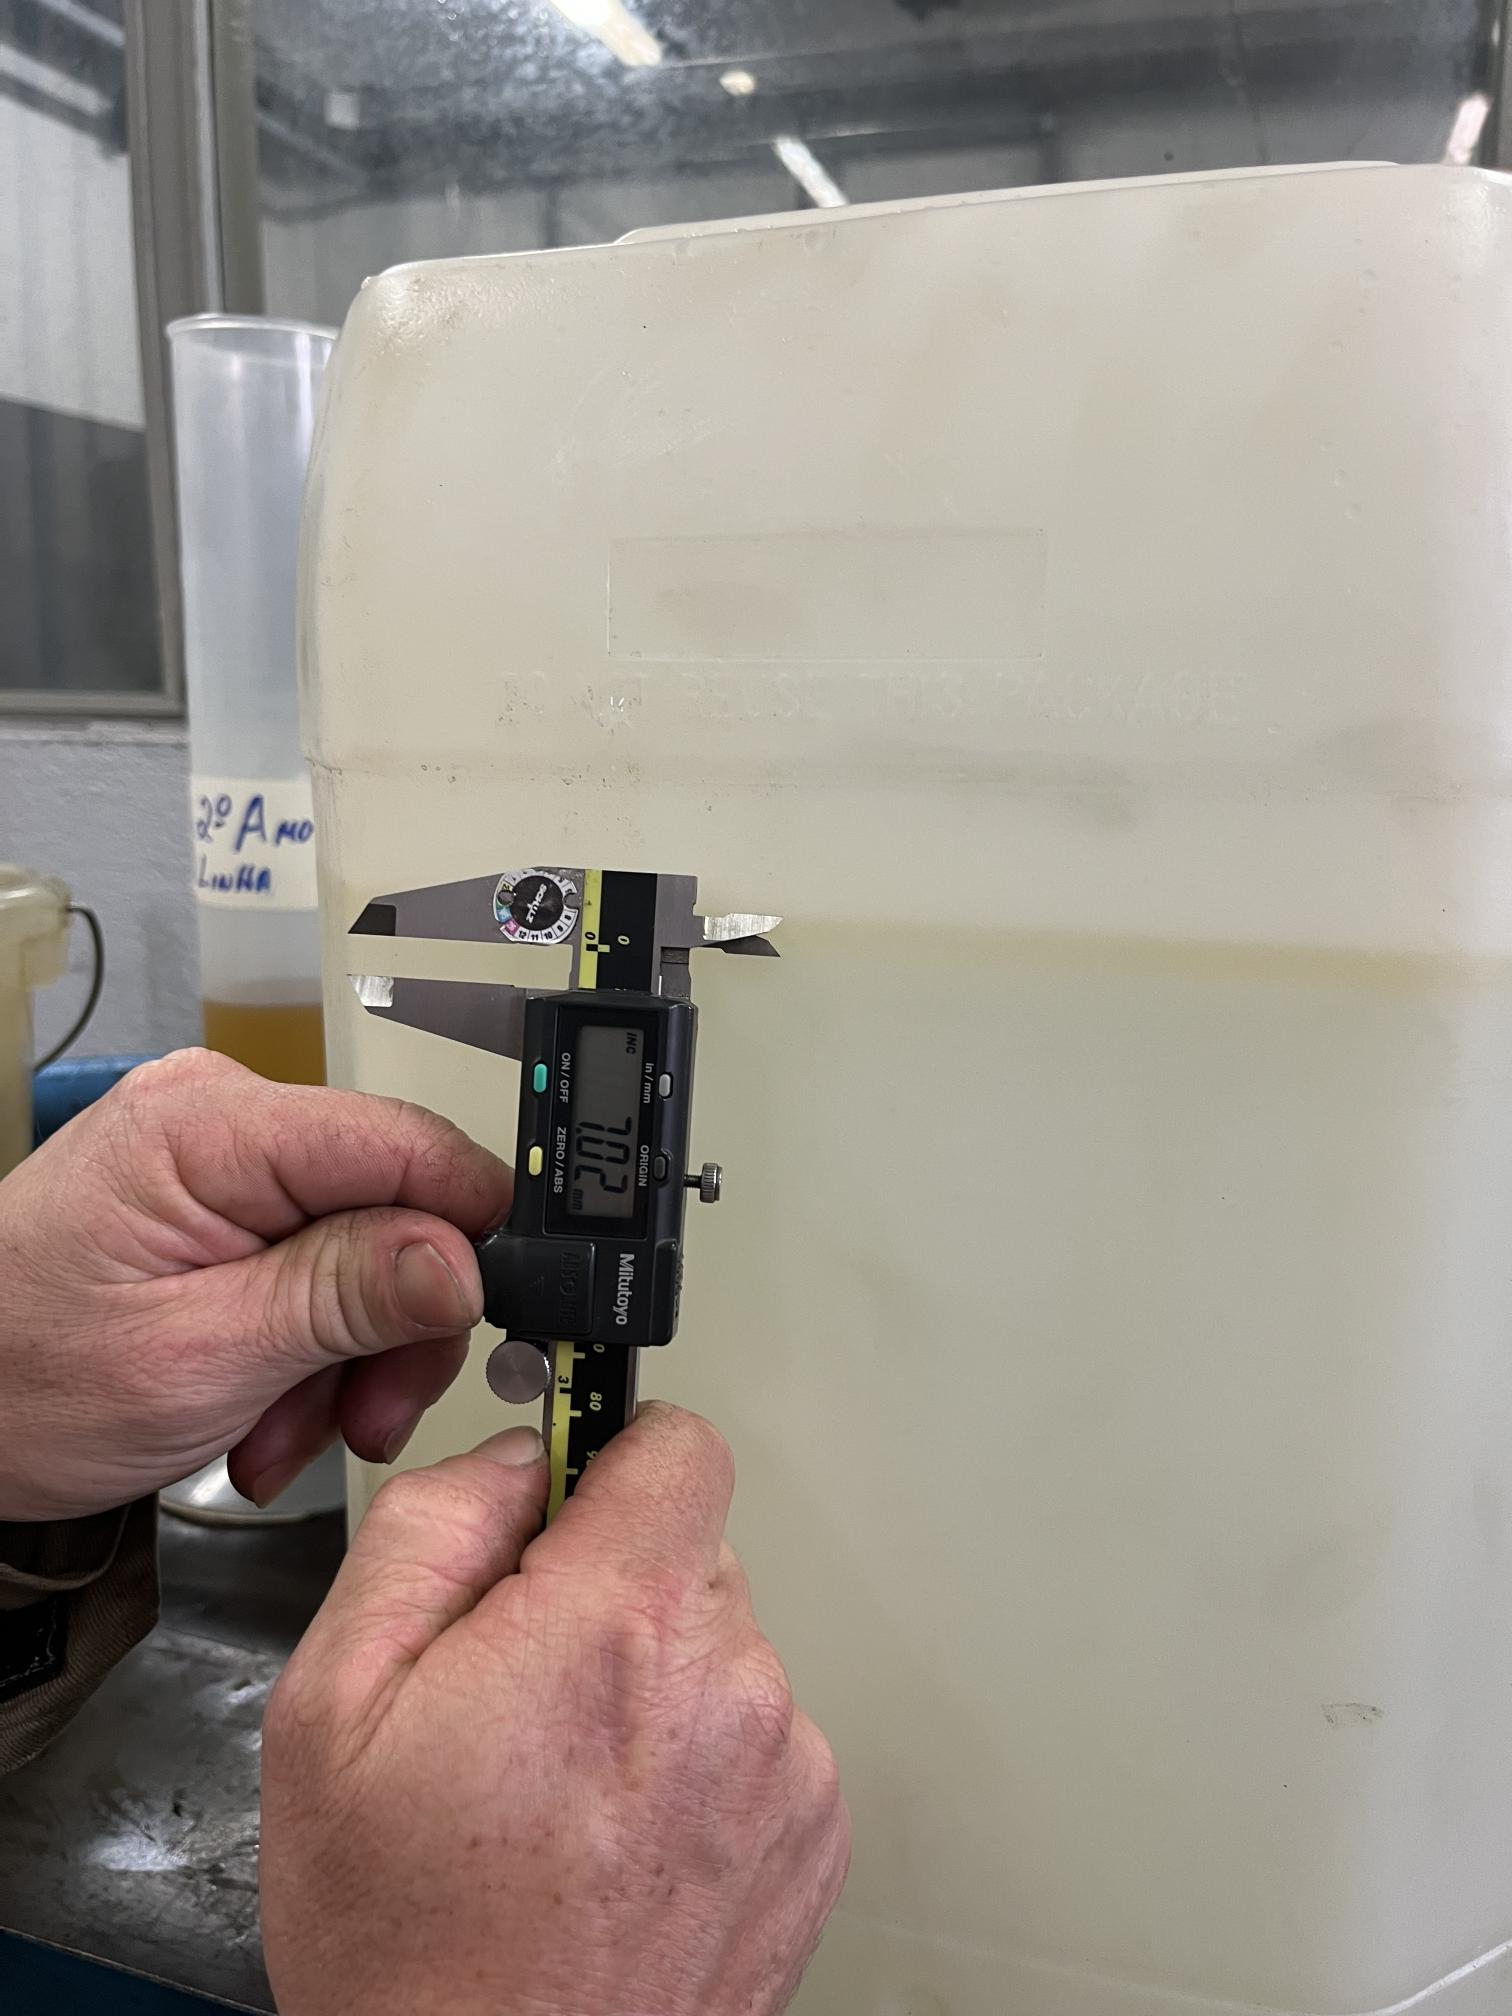Galao: (310, 195, 1490, 1979)
